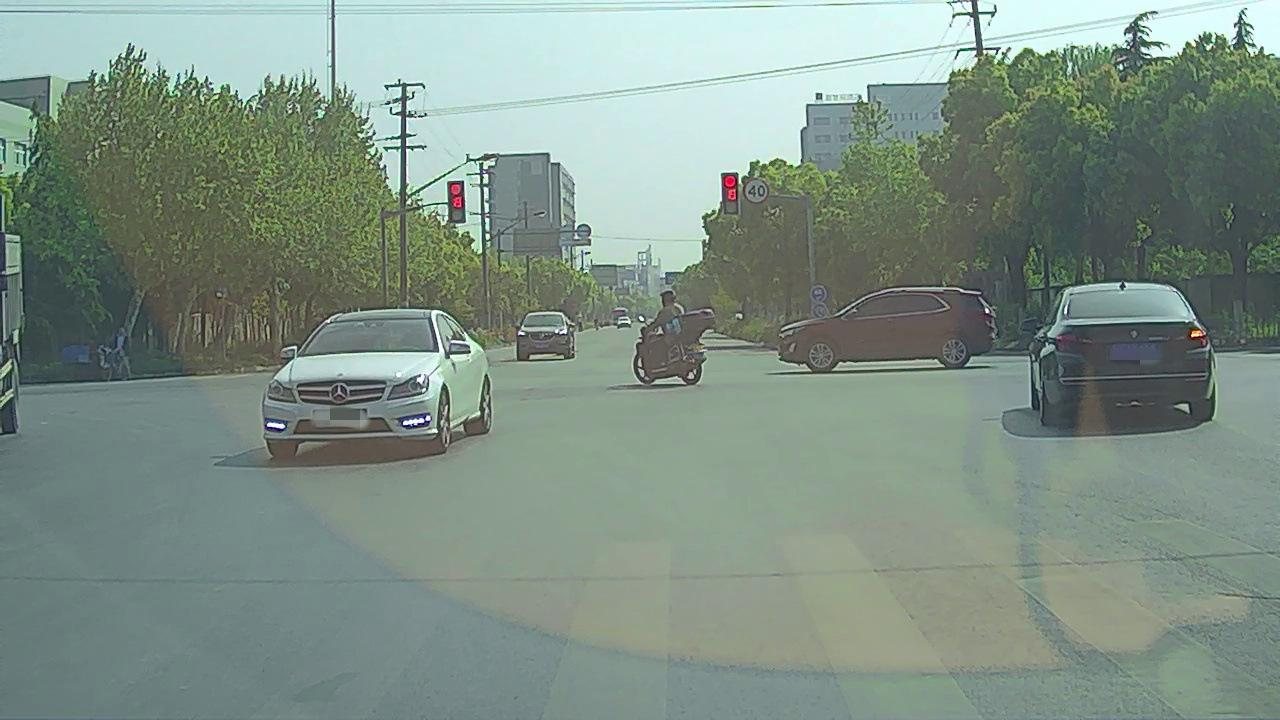traffic_light: (722, 173, 739, 215), (448, 181, 464, 221)
